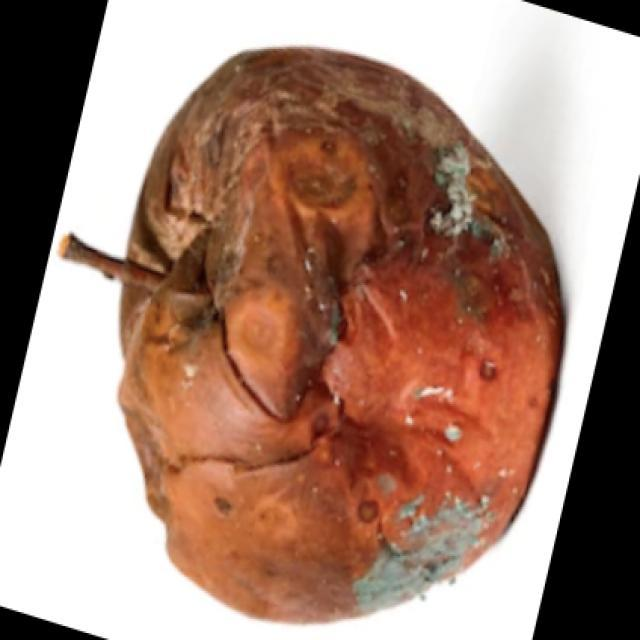Rotten: (145, 54, 550, 614)
